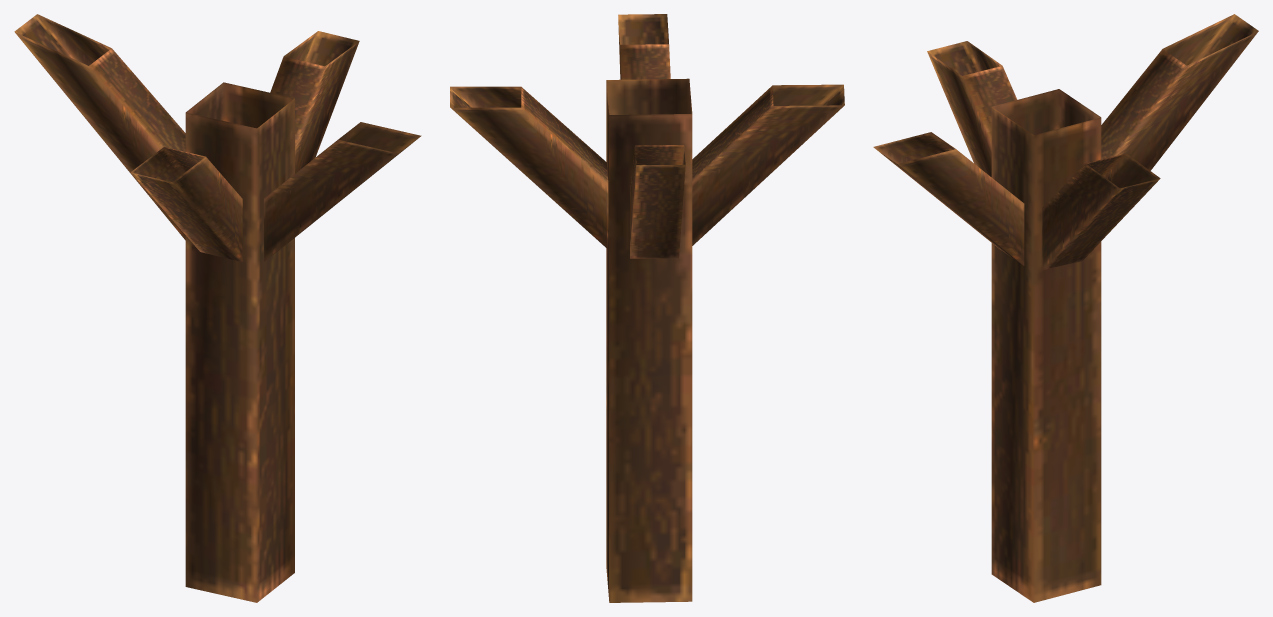
Rendered from SWORDLIGHT20_JAILPLATSUPPORT35.fbx.
The picture shows the model from 3 angles, left to right: view 1: azimuth 30°, elevation 25°; view 2: azimuth 150°, elevation 25°; view 3: azimuth 270°, elevation 25°; orthographic projection. The views are drawn at different scales.
Visible parts, largest first — view 1: SWORDLIGHT20_JAILPLATSUPPORT35; view 2: SWORDLIGHT20_JAILPLATSUPPORT35; view 3: SWORDLIGHT20_JAILPLATSUPPORT35.
Part boxes in pixels (x1,y1,x2,y2): SWORDLIGHT20_JAILPLATSUPPORT35: (14, 14, 421, 602); SWORDLIGHT20_JAILPLATSUPPORT35: (450, 14, 844, 602); SWORDLIGHT20_JAILPLATSUPPORT35: (873, 14, 1258, 602).
Bounding box in the file's own units: 17521 × 27863 × 19376.
1 material, 1 textured.
